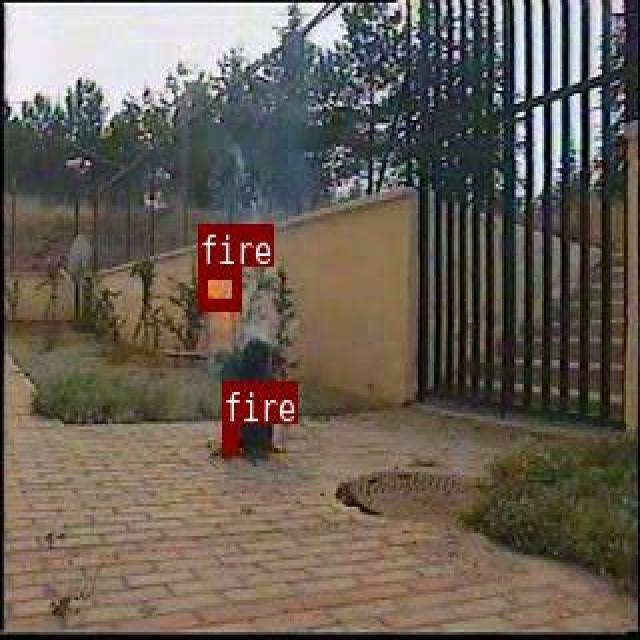fire: (197, 265, 238, 309), (221, 424, 236, 449)
